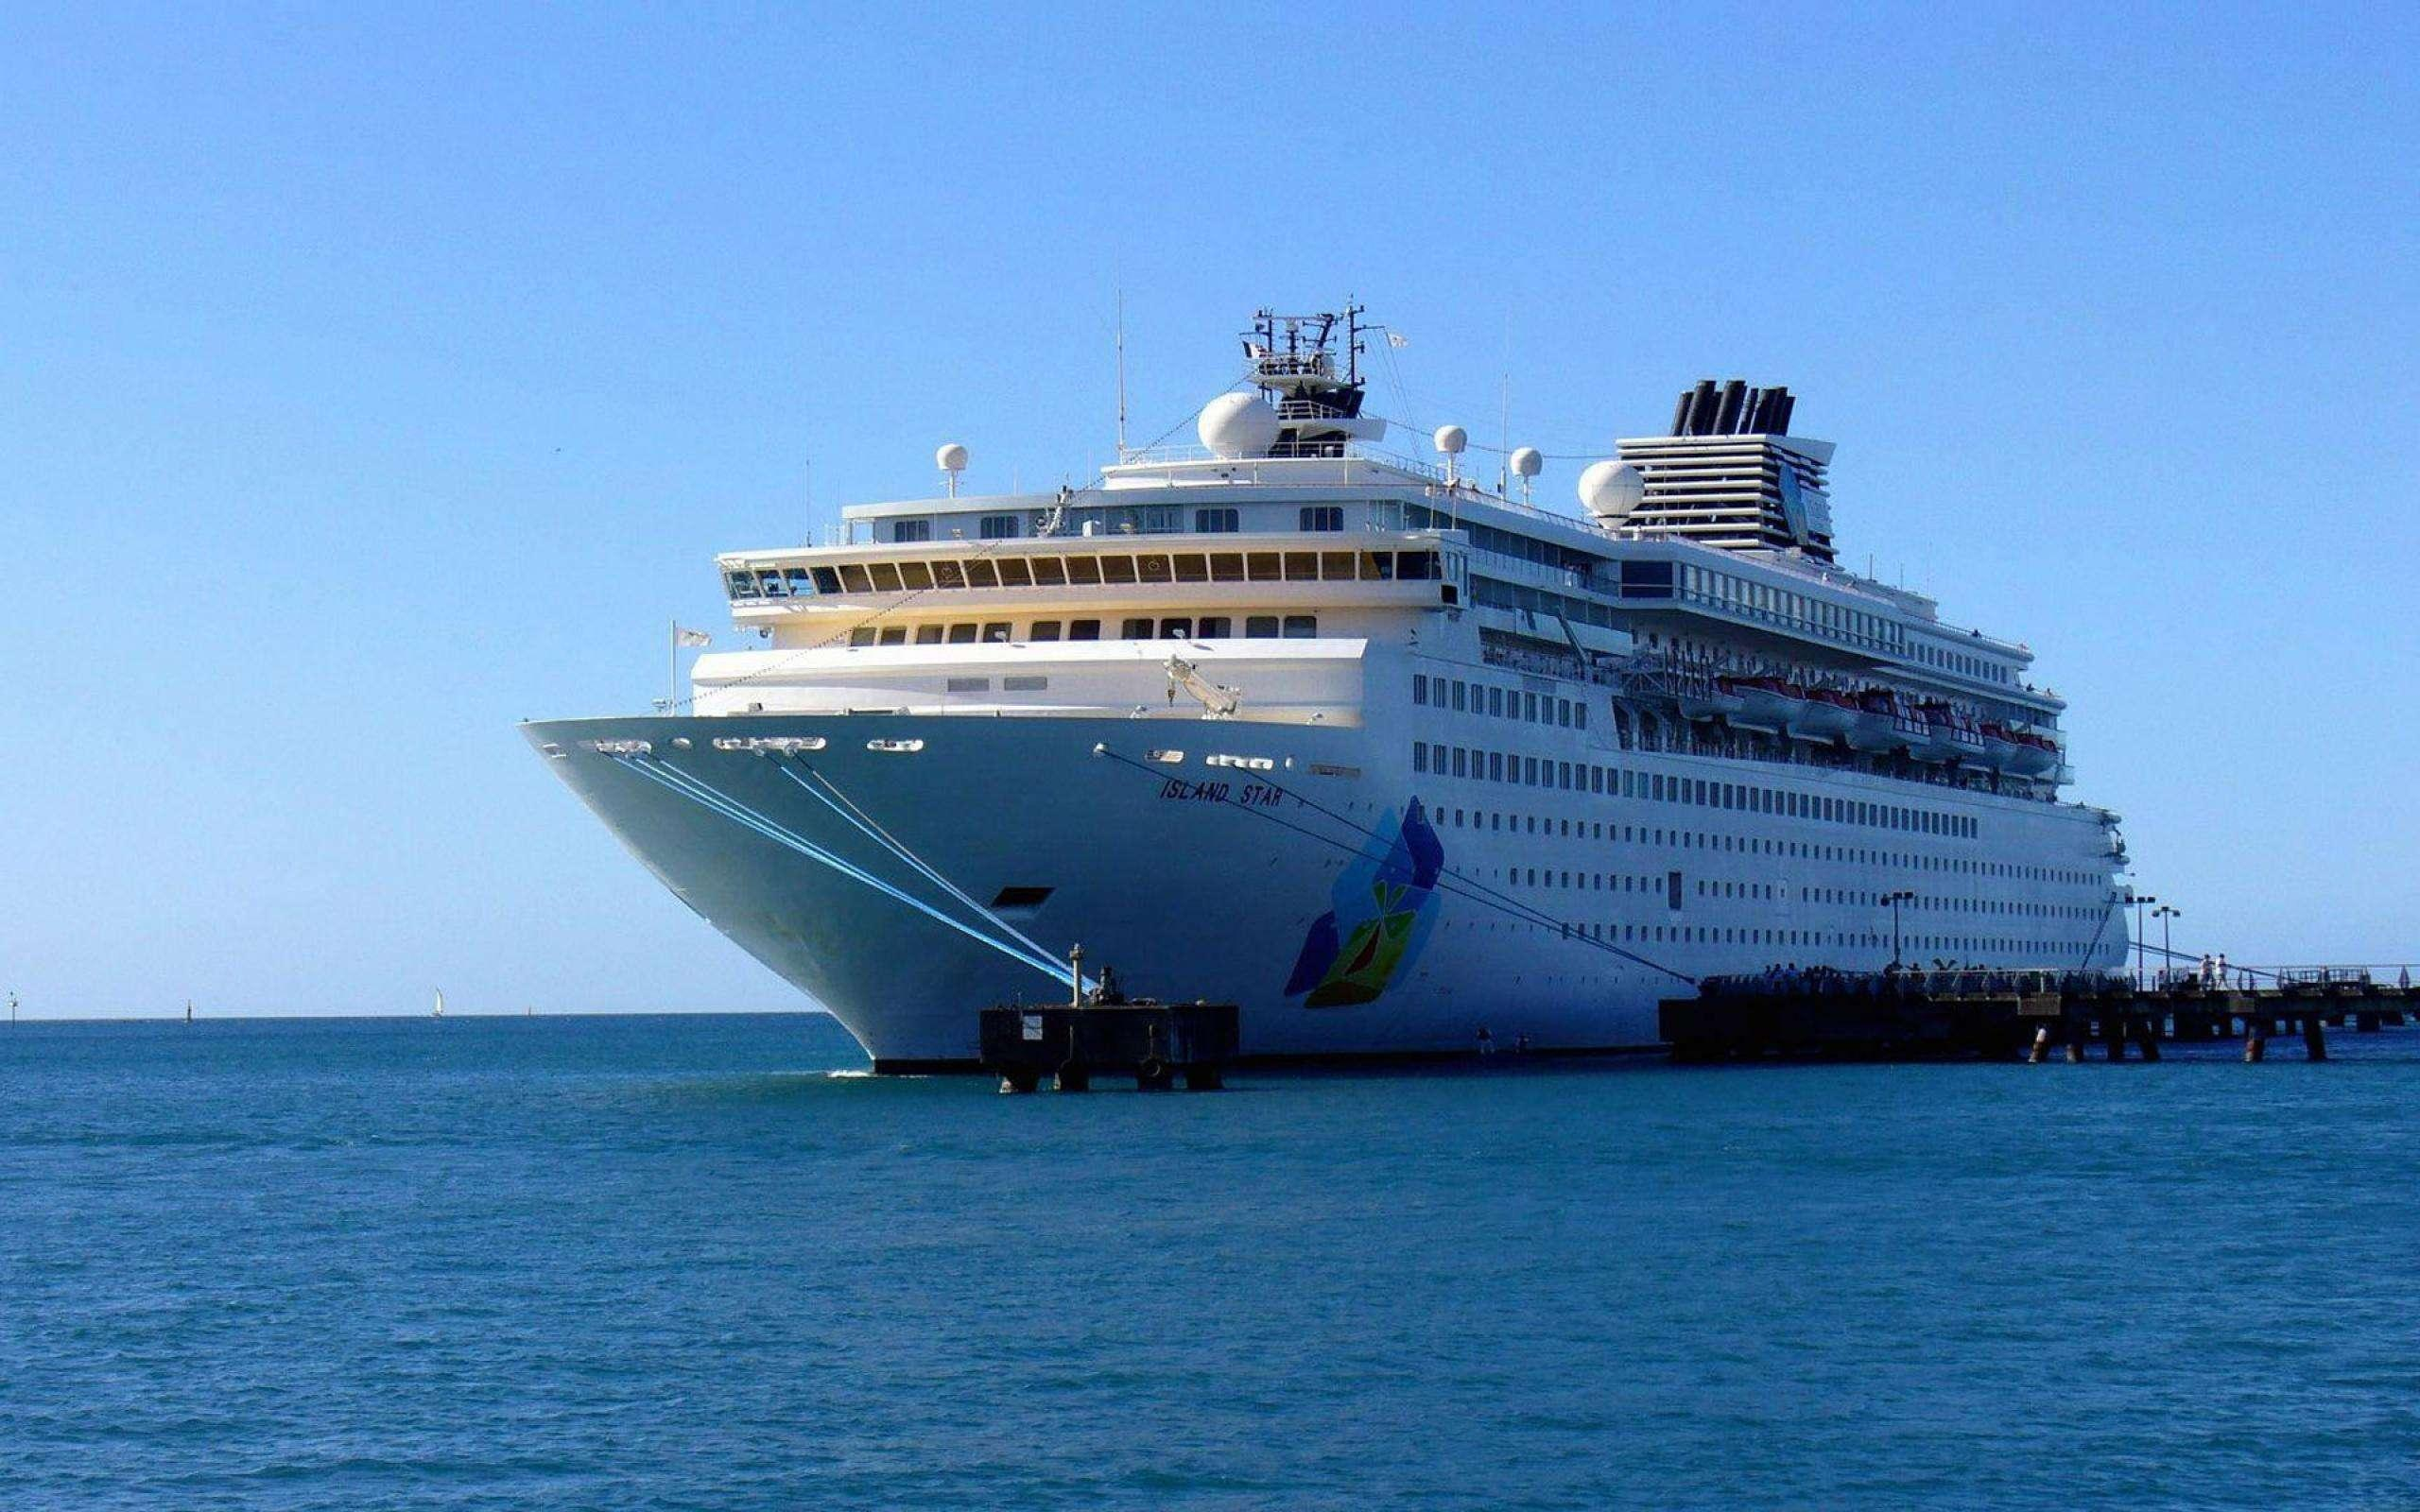youlun: (526, 277, 2152, 1075)
